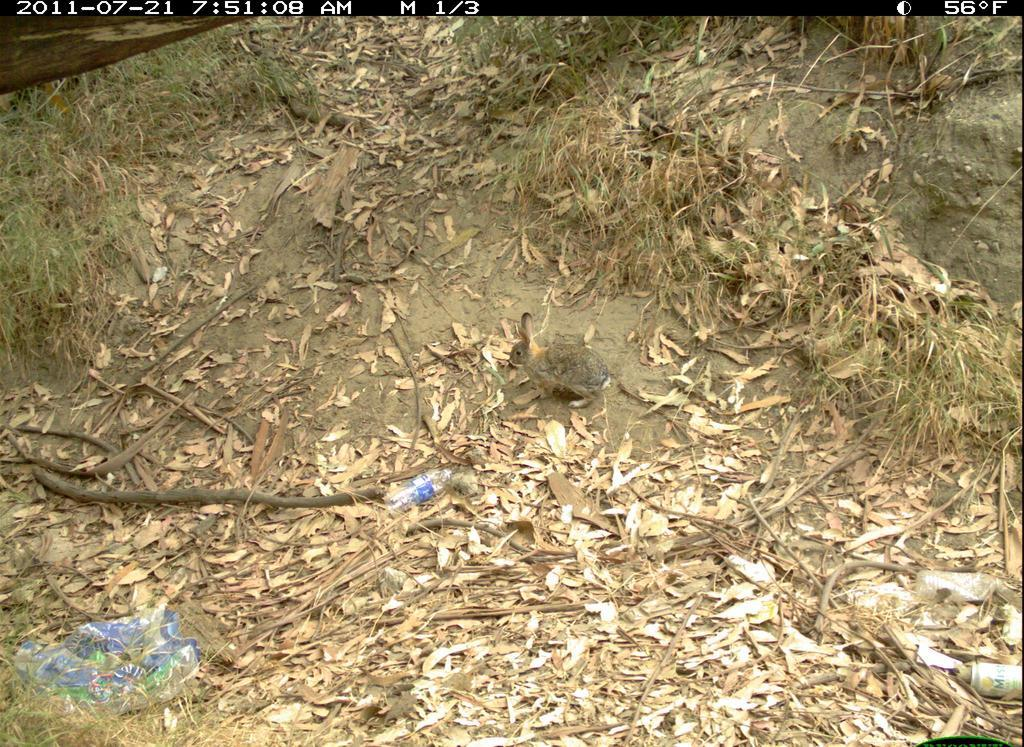rabbit: (493, 308, 617, 413)
